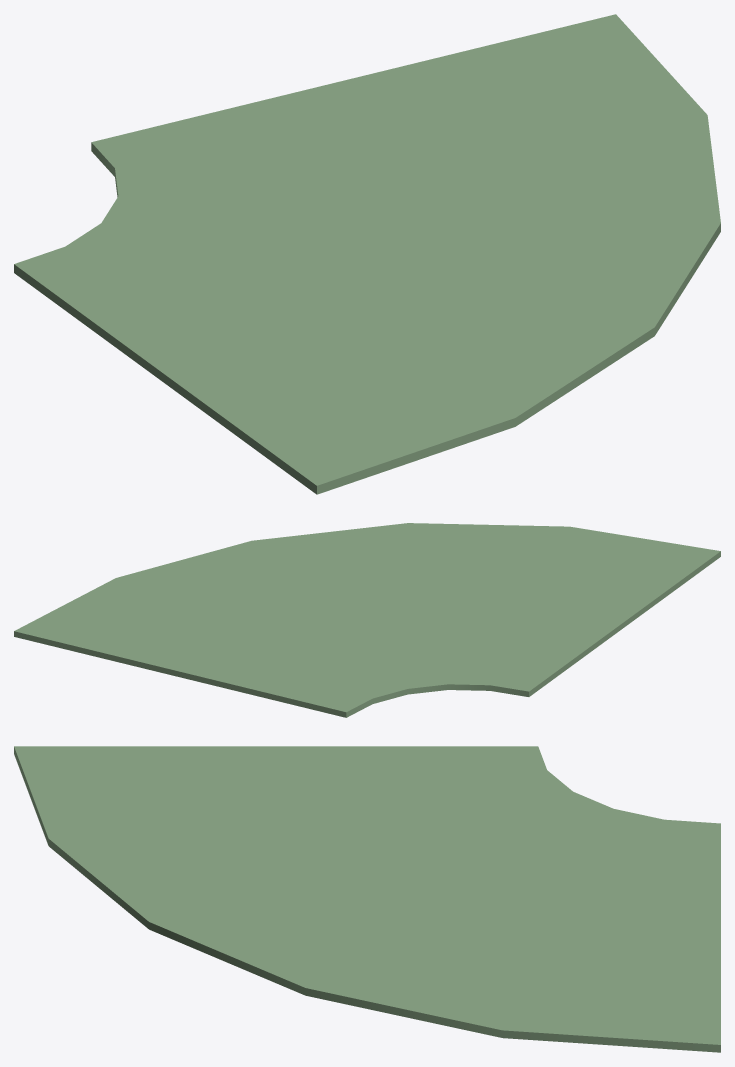
The model's file is Track_90Turn (2).fbx.
3 views of the same model, one above another, from view 1: azimuth 30°, elevation 25°; view 2: azimuth 150°, elevation 25°; view 3: azimuth 270°, elevation 25° (orthographic). The views are drawn at different scales.
Visible parts, largest first — view 1: pTorus1; view 2: pTorus1; view 3: pTorus1.
Part boxes in pixels (bbox=[...]): pTorus1: bbox=[14, 14, 720, 494]; pTorus1: bbox=[14, 523, 720, 717]; pTorus1: bbox=[14, 746, 720, 1052].
Bounding box in the file's own units: 4.12 × 0.0495 × 4.12.
